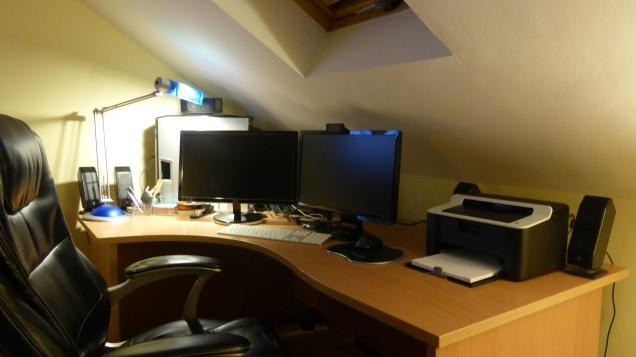AIO PC-Monitor-TV: (295, 127, 402, 226), (176, 129, 298, 203)
Kursi: (0, 112, 270, 356)
Printer: (402, 181, 569, 288)
